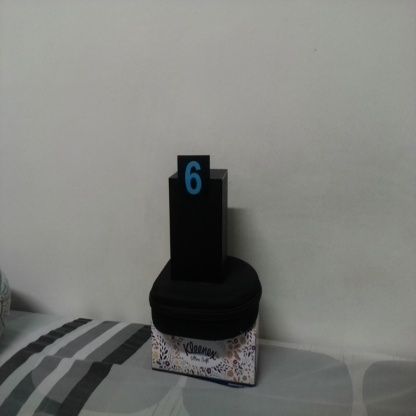id_6: (177, 155, 211, 206)
